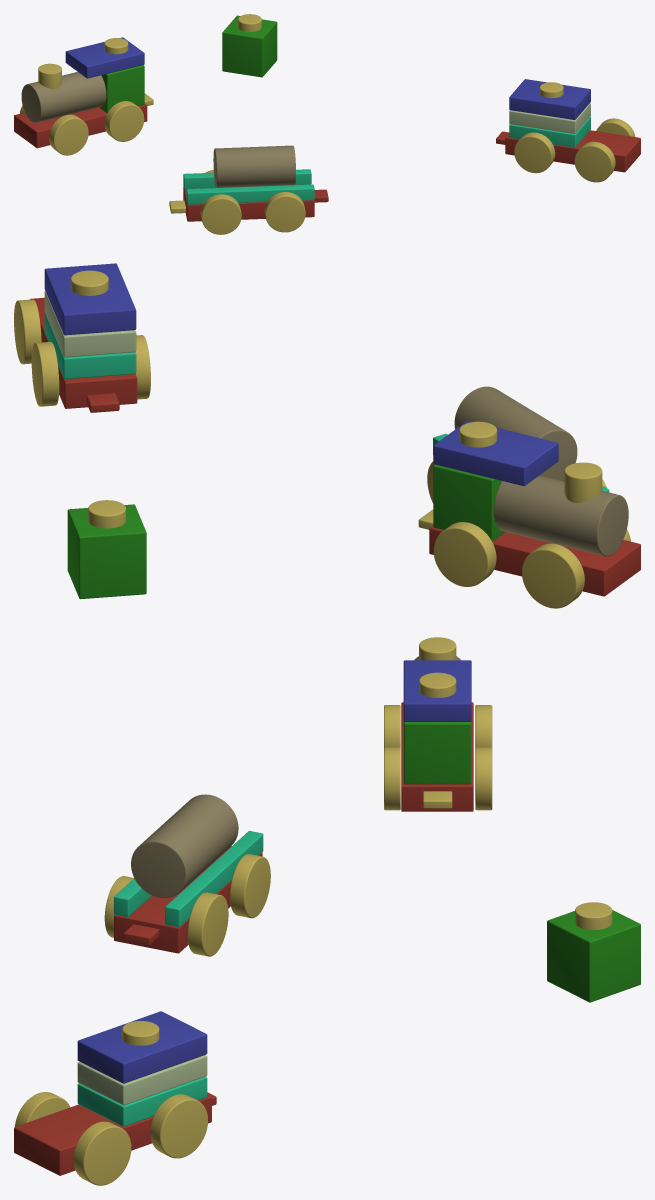
The model's file is Train.fbx.
The picture shows the model from 3 angles, top to bottom: view 1: azimuth 30°, elevation 25°; view 2: azimuth 150°, elevation 25°; view 3: azimuth 270°, elevation 25°; orthographic projection. The views are drawn at different scales.
Parts seen in each view (by area): view 1: train, wagon01, wagon02, wagon03; view 2: train, wagon02, wagon03, wagon01; view 3: wagon02, wagon01, train, wagon03.
Part boxes in pixels (x1=…): train: x1=14, y1=37, x2=153, y2=155; wagon01: x1=169, y1=145, x2=328, y2=234; wagon02: x1=496, y1=79, x2=640, y2=182; wagon03: x1=222, y1=14, x2=277, y2=77; train: x1=418, y1=420, x2=640, y2=608; wagon02: x1=14, y1=263, x2=150, y2=412; wagon03: x1=67, y1=500, x2=146, y2=599; wagon01: x1=427, y1=386, x2=609, y2=503; wagon02: x1=14, y1=1011, x2=216, y2=1185; wagon01: x1=104, y1=794, x2=270, y2=956; train: x1=384, y1=637, x2=492, y2=811; wagon03: x1=547, y1=902, x2=640, y2=1002.
Size of the model in its own units: 656 by 165 by 460.
